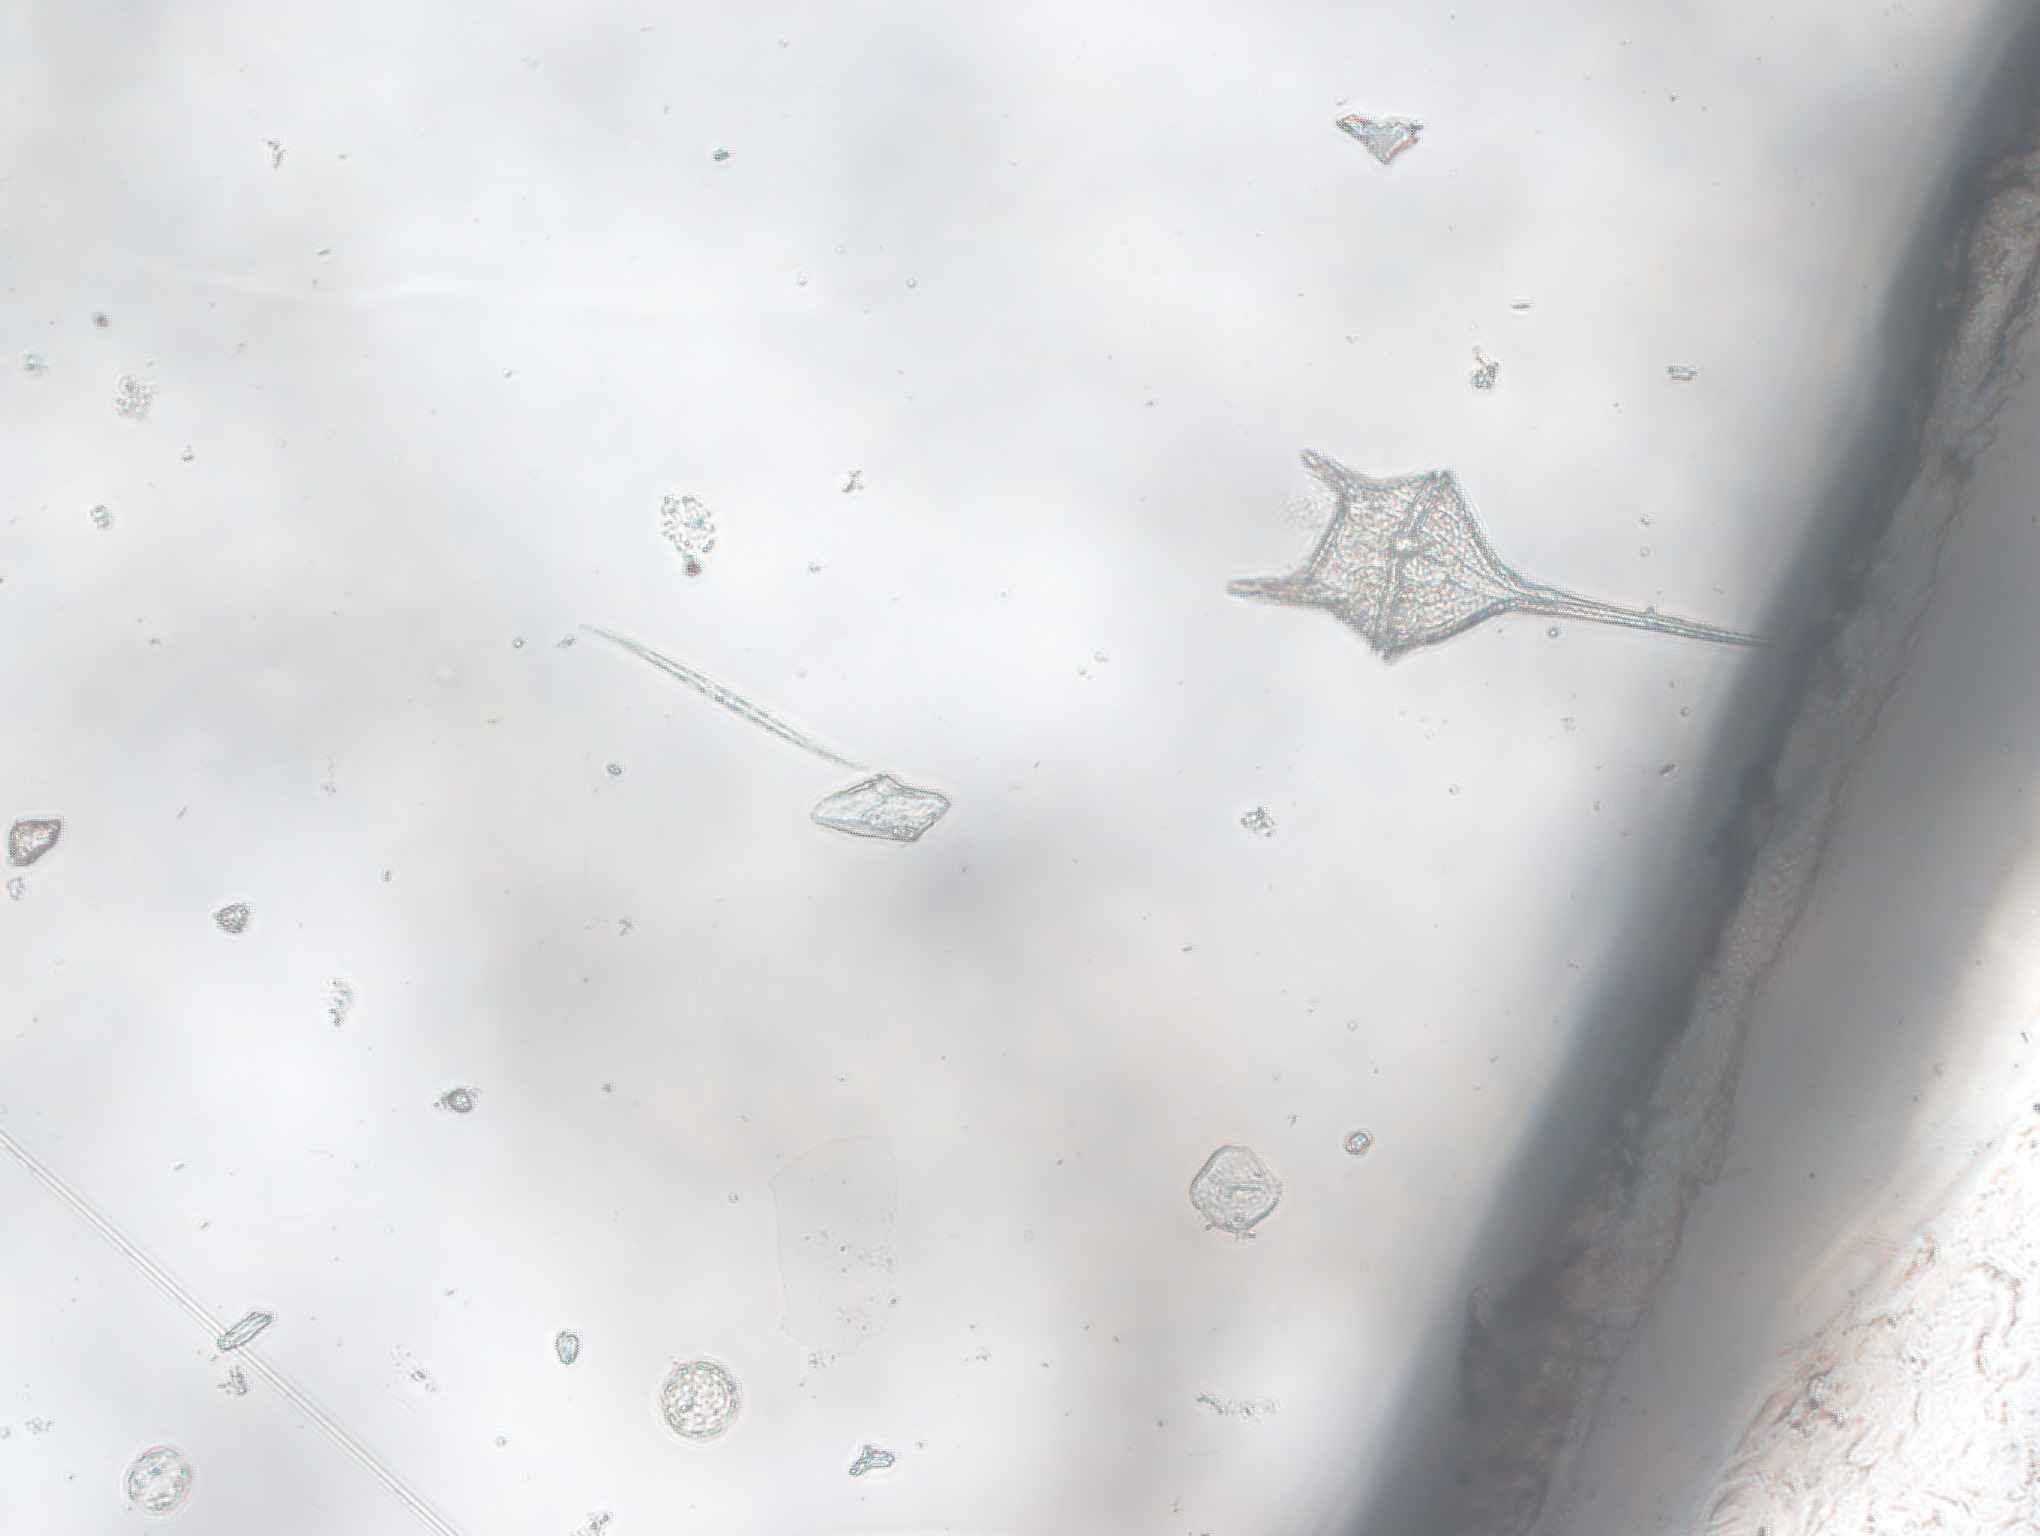ceratium furca: (1226, 424, 1776, 700)
pleurosigma pelagicum: (577, 620, 874, 783)
